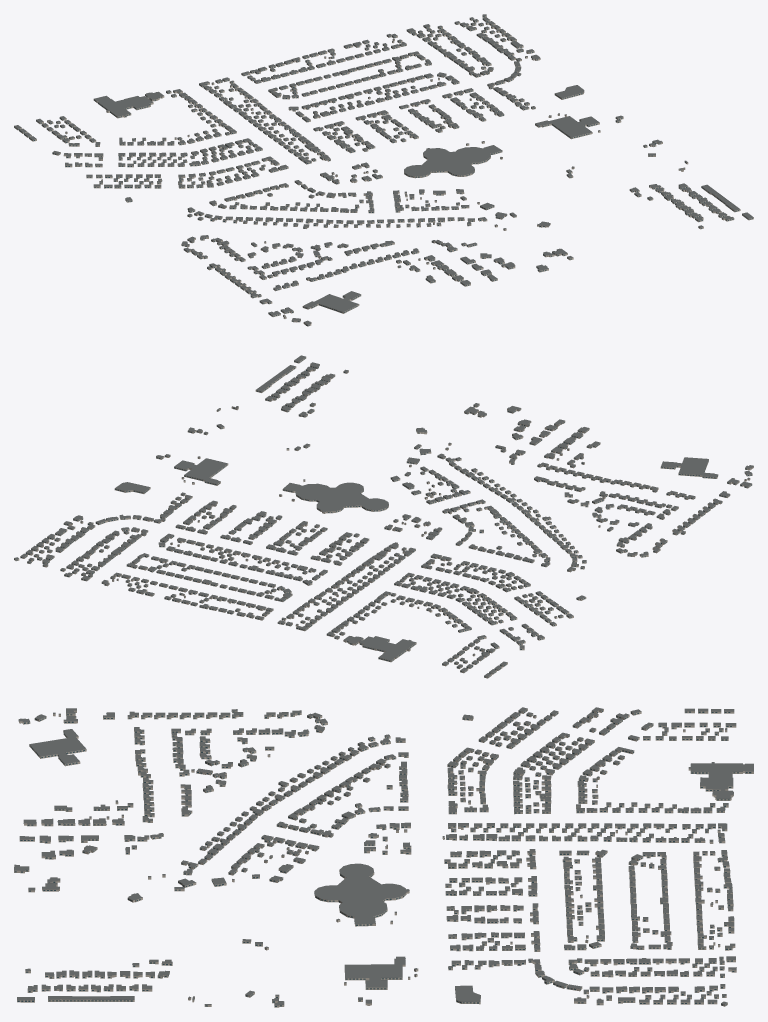
3 views of the same model, one above another, from view 1: azimuth 30°, elevation 25°; view 2: azimuth 150°, elevation 25°; view 3: azimuth 270°, elevation 25° (orthographic). The views are drawn at different scales.
Visible parts, largest first — view 1: Buildings (0, -6) Roof membrane, Buildings (0, -6) Masonry brick, Buildings (0, -6) Architectural tinted glass, Buildings (0, -6) Metal coping; view 2: Buildings (0, -6) Roof membrane, Buildings (0, -6) Masonry brick, Buildings (0, -6) Architectural tinted glass, Buildings (0, -6) Metal coping; view 3: Buildings (0, -6) Roof membrane, Buildings (0, -6) Masonry brick, Buildings (0, -6) Architectural tinted glass, Buildings (0, -6) Metal coping.
Part boxes in pixels (x1=…): Buildings (0, -6) Roof membrane: x1=14, y1=14, x2=753, y2=324; Buildings (0, -6) Masonry brick: x1=14, y1=16, x2=753, y2=326; Buildings (0, -6) Architectural tinted glass: x1=14, y1=16, x2=752, y2=325; Buildings (0, -6) Metal coping: x1=19, y1=20, x2=742, y2=323; Buildings (0, -6) Roof membrane: x1=14, y1=355, x2=753, y2=676; Buildings (0, -6) Masonry brick: x1=14, y1=357, x2=753, y2=678; Buildings (0, -6) Architectural tinted glass: x1=14, y1=357, x2=753, y2=677; Buildings (0, -6) Metal coping: x1=20, y1=363, x2=750, y2=663; Buildings (0, -6) Roof membrane: x1=14, y1=707, x2=753, y2=1005; Buildings (0, -6) Masonry brick: x1=14, y1=709, x2=753, y2=1007; Buildings (0, -6) Architectural tinted glass: x1=14, y1=710, x2=751, y2=1006; Buildings (0, -6) Metal coping: x1=14, y1=707, x2=742, y2=1005.
Size of the model in its own units: 989 by 6.51 by 1039.
